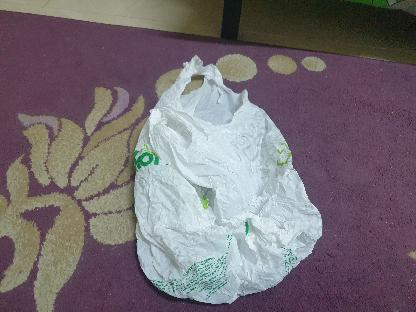Plastic Bag: (134, 54, 324, 304)
